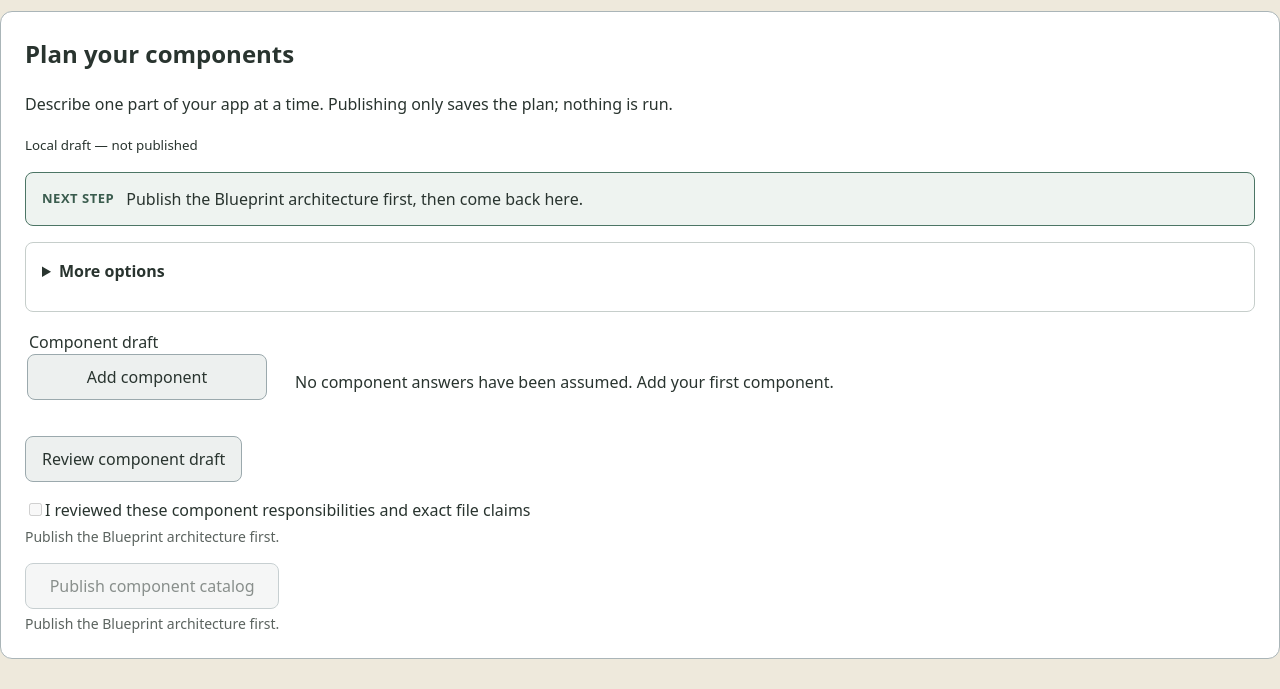
Test case: reviewing with no architecture names the missing architecture instead of asking to rebind
This screenshot has width=1280, height=689.
Click the button "Add component" at (147, 377), box [27,354,267,400]
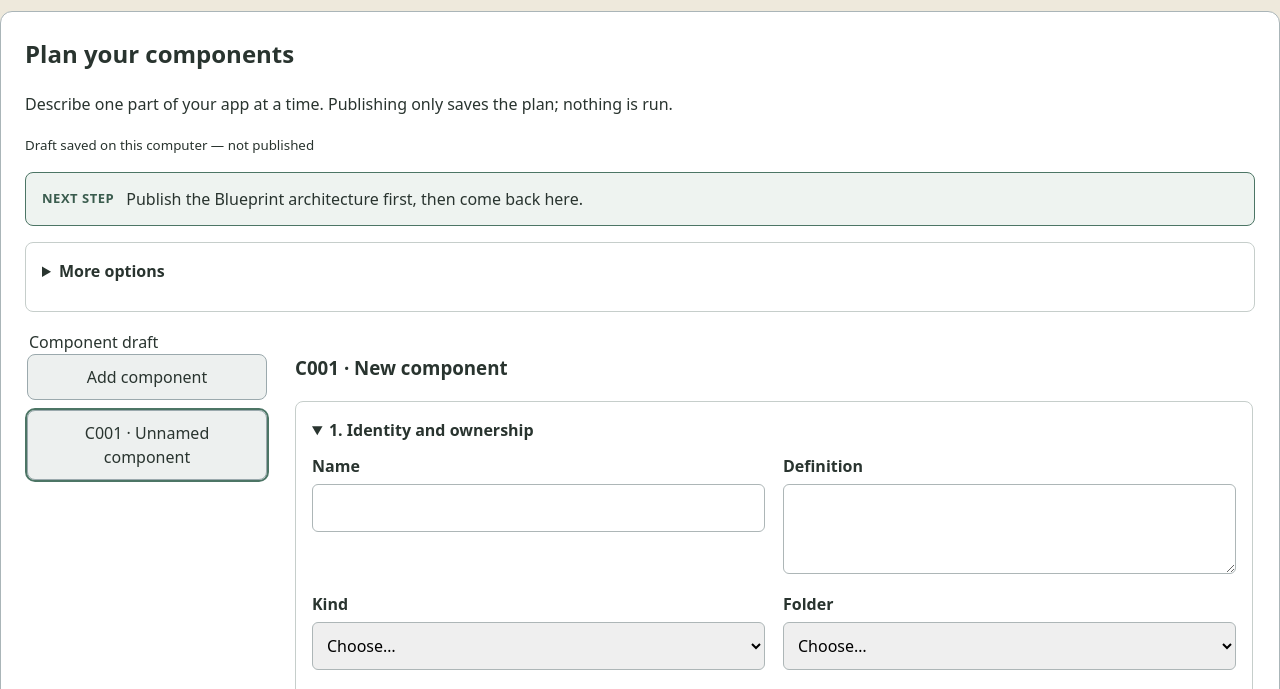
Type "First part" into the field labelled "Name" at (538, 508), box [312,484,765,532]
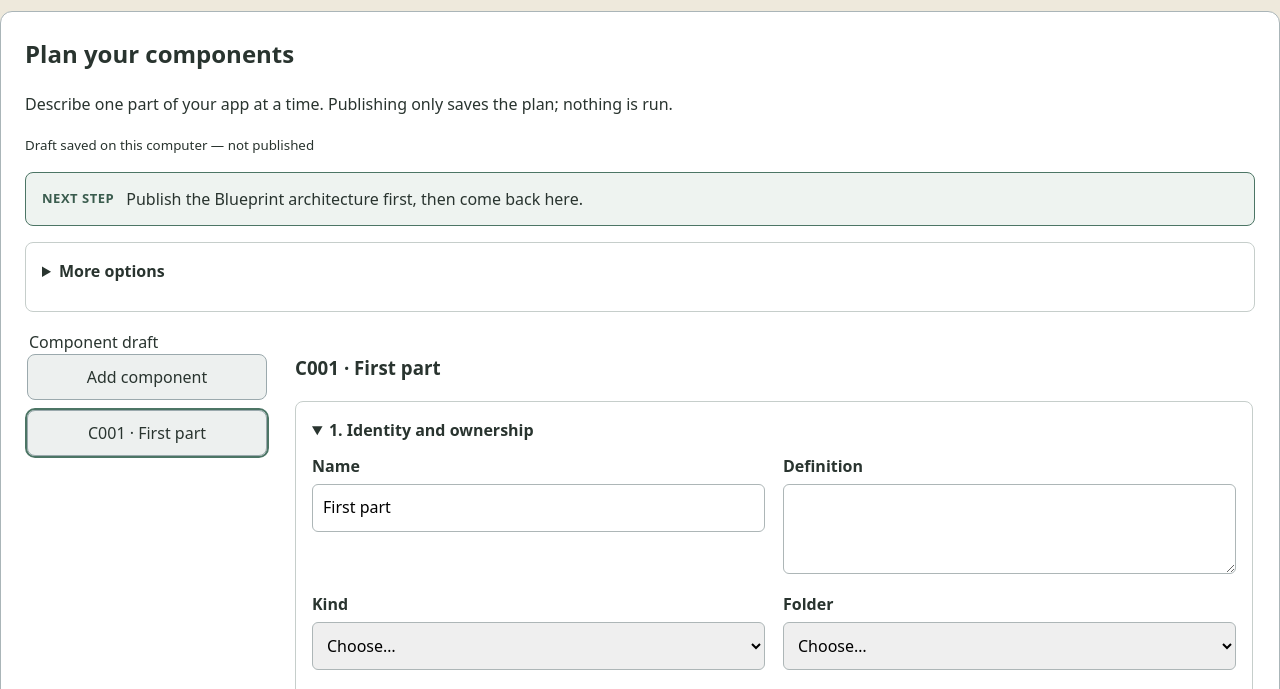
Click the button "Add component" at (147, 377), box [27,354,267,400]
(page scrolled)
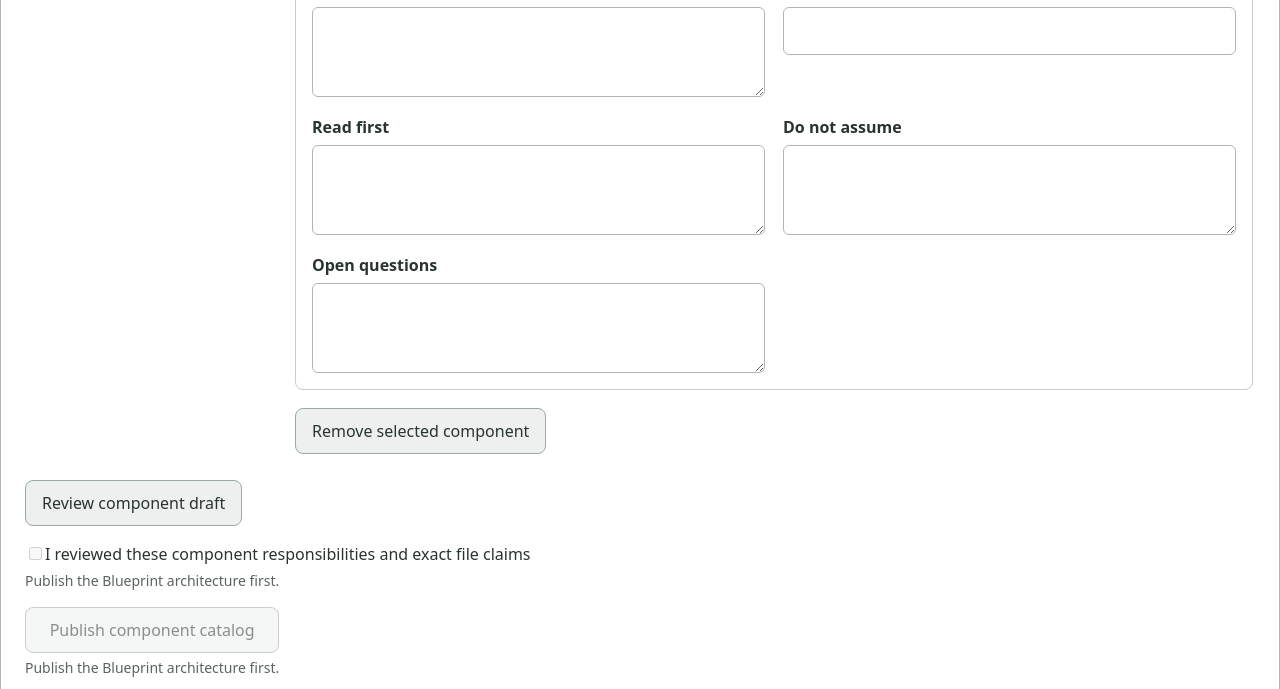
Click the button "Review component draft" at (134, 503), box [25,480,242,526]
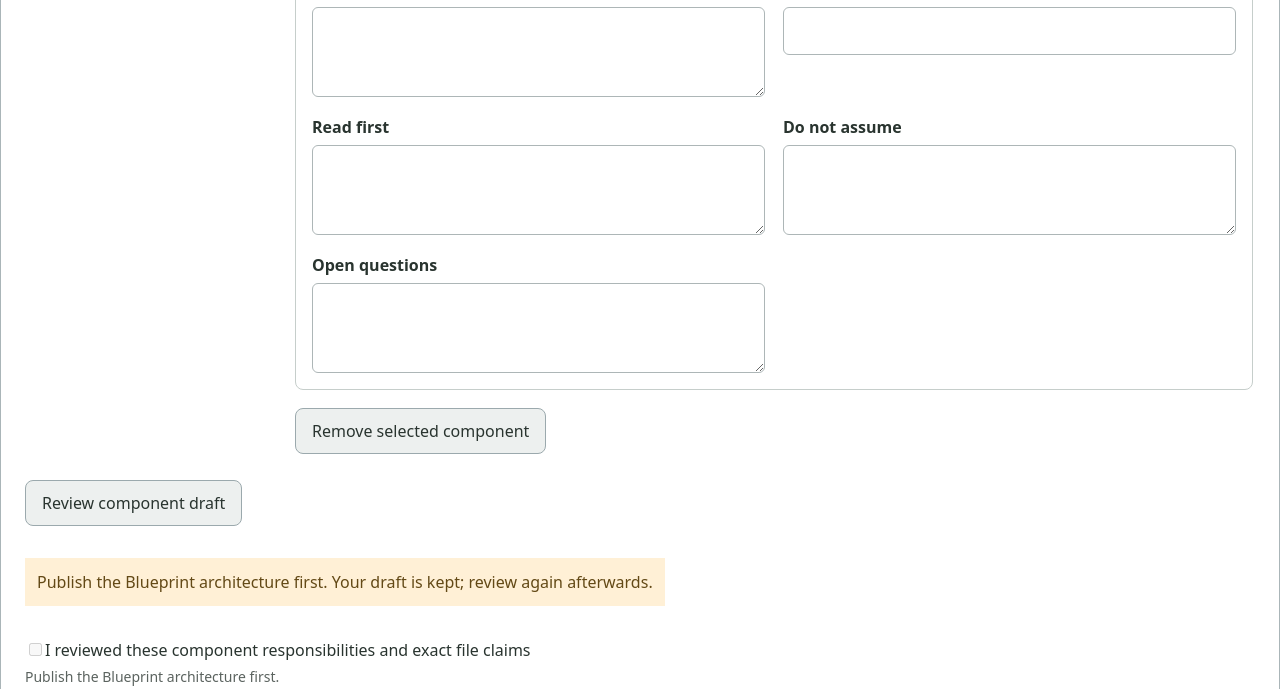
Result: the message shows "Publish the Blueprint architecture first" at [37,571,653,593]
